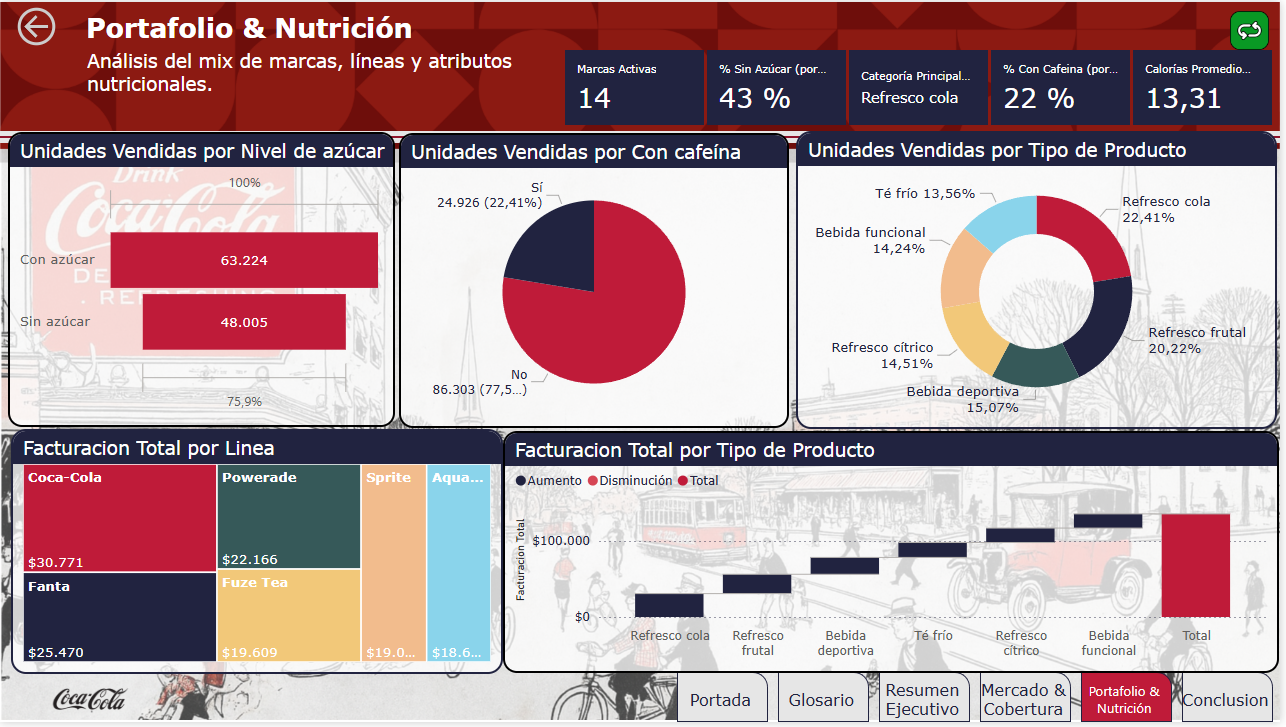

The page's visual inventory and layout, read from the dashboard file:
{"tool":"powerbi","page":{"name":"Portafolio & Nutrición","canvas":[1280,720],"ordinal":6},"visuals":[{"type":"shape","box":[0,128.6,1280.4,12.5],"z":0},{"type":"shape","box":[0,128.6,1280,12.5],"z":1000},{"type":"textbox","box":[81.3,3.8,357.2,73.7],"z":2000},{"type":"textbox","box":[81.7,41.7,477.3,59.9],"z":3000},{"type":"actionButton","box":[12.3,0,73.7,49.1],"z":4000},{"type":"image","box":[0,670.9,181.4,49.1],"z":5000},{"type":"pageNavigator","box":[676.7,670,601.7,50],"z":6000},{"type":"image","box":[1219.5,3.6,58.1,49],"z":7000},{"type":"cardVisual","fields":{"Data":["Tabla de medidas.Marcas Activas","Tabla de medidas.% Sin Azúcar (por Unidades)","Tabla de medidas.Categoría Principal (por Unidades)","Tabla de medidas.% Con Cafeina (por Unidades)","Tabla de medidas.Calorías Promedio (kcal/100ml)"]},"box":[560.3,48.5,717.7,77.2],"z":8000},{"type":"treemap","fields":{"Values":["Tabla de medidas.Facturacion Total"],"Group":["Marca.Linea"]},"box":[11,427,491.8,245.2],"z":9000},{"type":"waterfallChart","fields":{"Category":["Tipo de Producto.Tipo de Producto"],"Y":["Tabla de medidas.Facturacion Total"]},"box":[502.7,429,776.7,241.9],"z":10000},{"type":"funnel","fields":{"Category":["Nivel de azucar.Nivel de azúcar"],"Y":["Tabla de medidas.Unidades Vendidas"]},"box":[7.6,130.4,387.4,294.8],"z":11000},{"type":"pieChart","fields":{"Y":["Tabla de medidas.Unidades Vendidas"],"Category":["Con cafeina.Con cafeína"]},"box":[399.5,130.9,389.9,294.8],"z":12000},{"type":"donutChart","fields":{"Y":["Tabla de medidas.Unidades Vendidas"],"Category":["Tipo de Producto.Tipo de Producto"]},"box":[796.2,129.5,480.8,297.6],"z":13000}]}

Visuals, with their boxes in screenshot pixels (x1, y1, x2, y2), scaled from the page's 1280x720 canvas onto the 1286x727 screenshot:
shape: {"left": 0, "top": 130, "right": 1285, "bottom": 142}
shape: {"left": 0, "top": 130, "right": 1285, "bottom": 142}
textbox: {"left": 82, "top": 4, "right": 441, "bottom": 78}
textbox: {"left": 82, "top": 42, "right": 562, "bottom": 103}
actionButton: {"left": 12, "top": 0, "right": 86, "bottom": 50}
image: {"left": 0, "top": 677, "right": 182, "bottom": 726}
pageNavigator: {"left": 680, "top": 677, "right": 1284, "bottom": 726}
image: {"left": 1225, "top": 4, "right": 1284, "bottom": 53}
cardVisual - Tabla de medidas.Marcas Activas x Tabla de medidas.% Sin Azúcar (por Unidades): {"left": 563, "top": 49, "right": 1284, "bottom": 127}
treemap - Tabla de medidas.Facturacion Total x Marca.Linea: {"left": 11, "top": 431, "right": 505, "bottom": 679}
waterfallChart - Tipo de Producto.Tipo de Producto x Tabla de medidas.Facturacion Total: {"left": 505, "top": 433, "right": 1285, "bottom": 677}
funnel - Nivel de azucar.Nivel de azúcar x Tabla de medidas.Unidades Vendidas: {"left": 8, "top": 132, "right": 397, "bottom": 429}
pieChart - Tabla de medidas.Unidades Vendidas x Con cafeina.Con cafeína: {"left": 401, "top": 132, "right": 793, "bottom": 430}
donutChart - Tabla de medidas.Unidades Vendidas x Tipo de Producto.Tipo de Producto: {"left": 800, "top": 131, "right": 1283, "bottom": 431}
